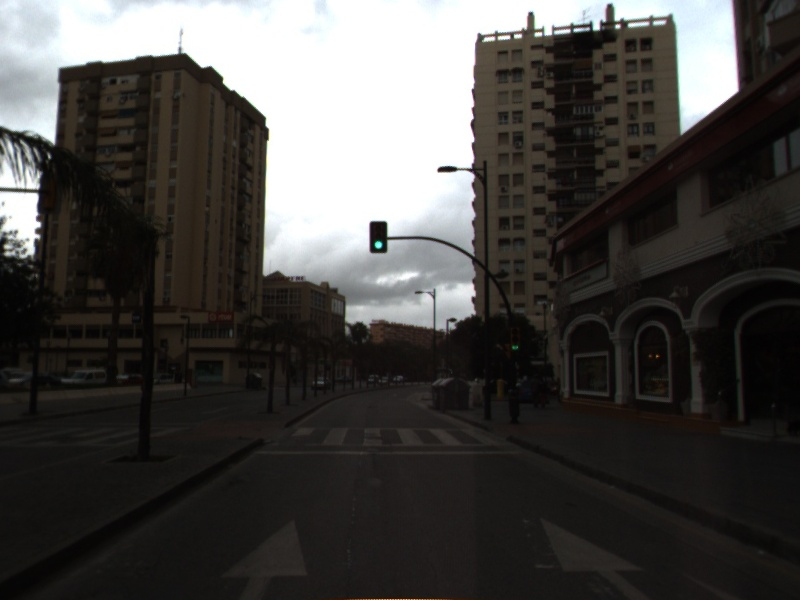STRAIGHT: (537, 514, 663, 600), (216, 514, 314, 600)
